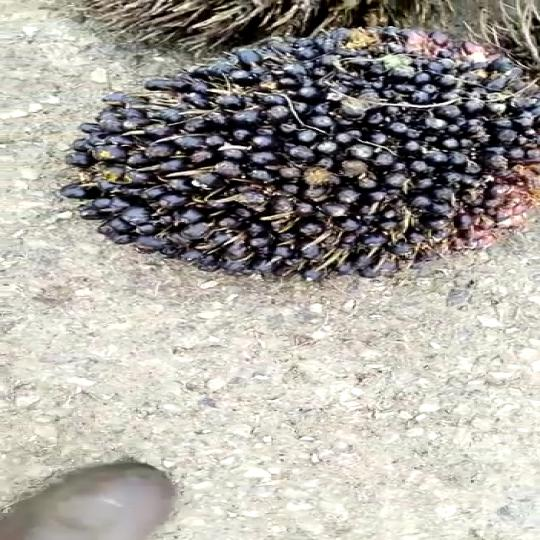mentah: (77, 15, 540, 295)
